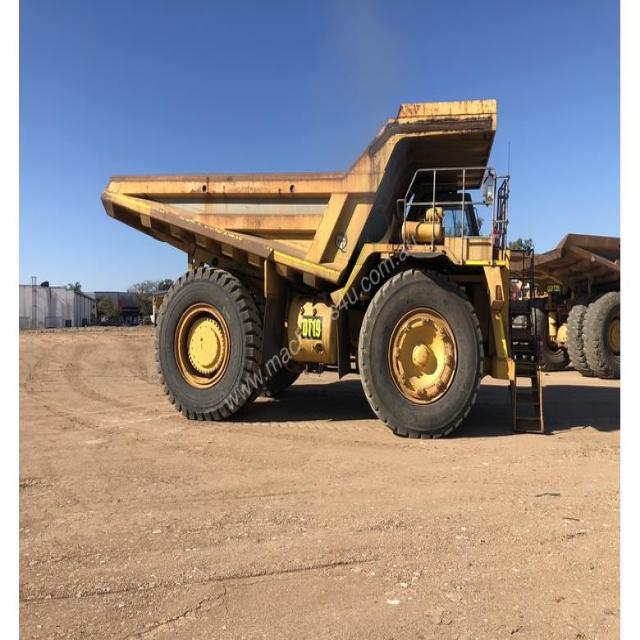dump_truck: (101, 93, 554, 454)
